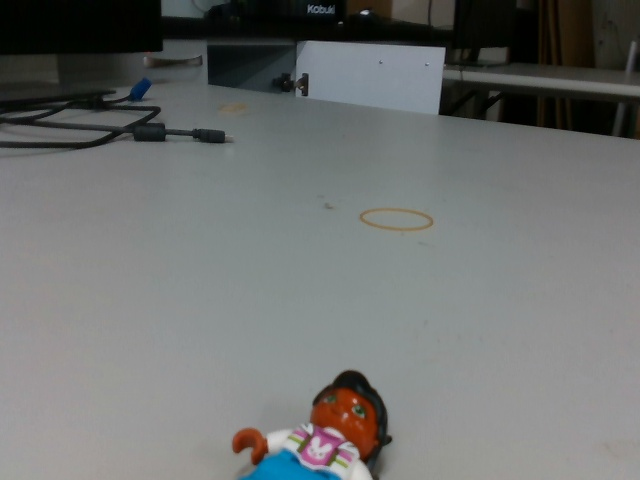people: (230, 368, 398, 480)
